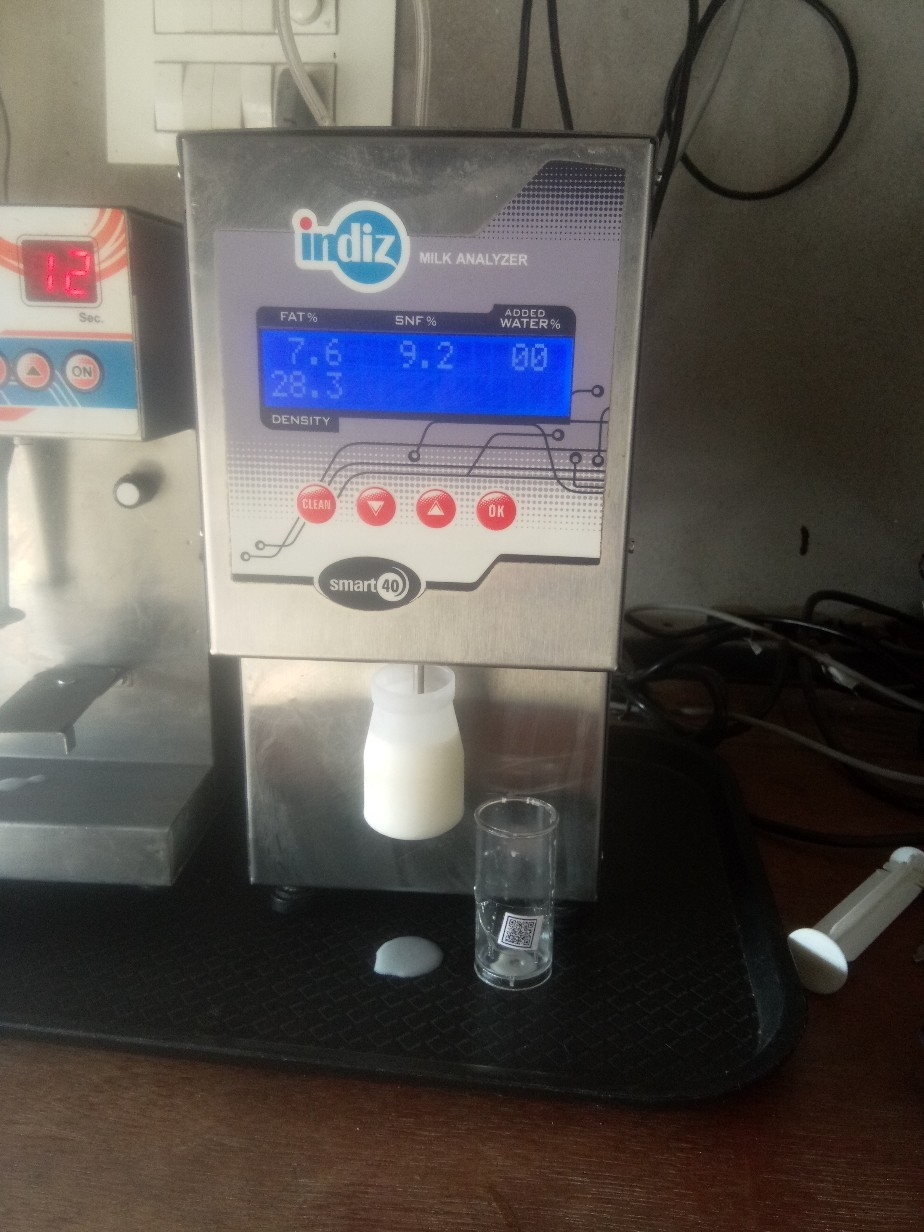lcd: (255, 317, 578, 423)
qr: (495, 908, 550, 953)
